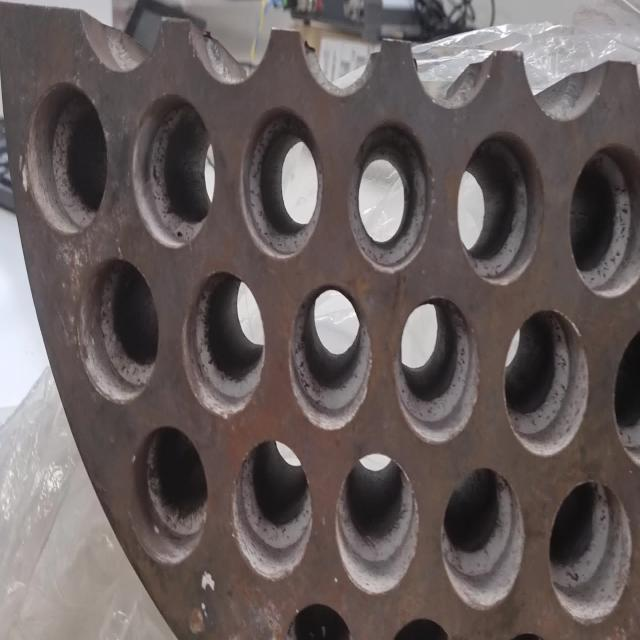Hole: (456, 130, 544, 286), (131, 92, 216, 249), (21, 81, 108, 234), (348, 119, 432, 274), (503, 308, 590, 457), (239, 107, 323, 260), (547, 478, 633, 625), (288, 283, 373, 430), (182, 268, 265, 418), (394, 296, 478, 444), (440, 467, 526, 611), (335, 452, 419, 596), (77, 258, 159, 404), (231, 438, 313, 582), (568, 143, 640, 300), (133, 424, 208, 566), (613, 322, 640, 470), (279, 600, 360, 639), (379, 616, 460, 640), (479, 630, 565, 640)
